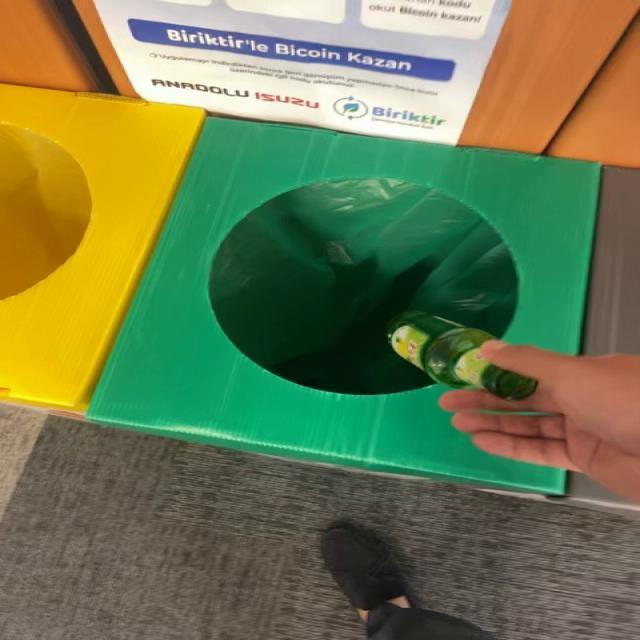Glass: (388, 312, 539, 400)
